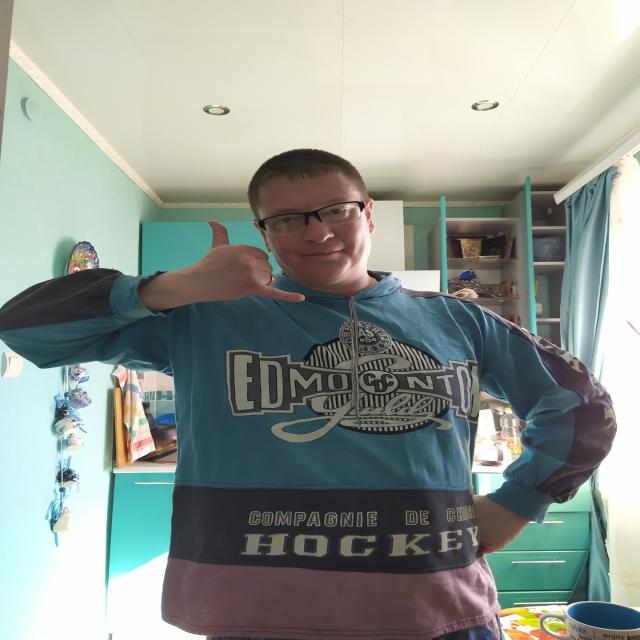call: (179, 216, 312, 306)
